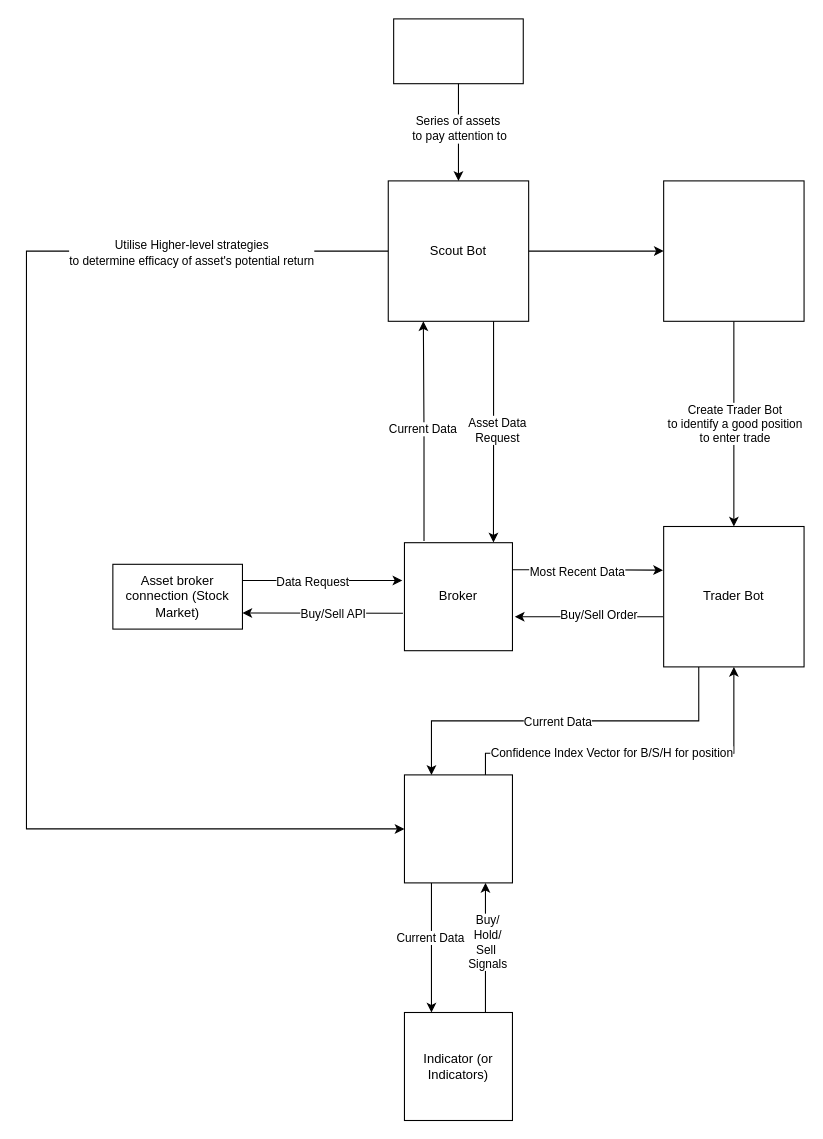
Image size: 823x1139. Some labels were removed from this diagram. Here are the shapes that lost their labels. From the top down, the centre of each, then its label:
At pixel 458 51: "Asset watchlist".
At pixel 733 250: "Architect Bot".
At pixel 457 828: "Strategy (or numerous Strategy Objects)".
